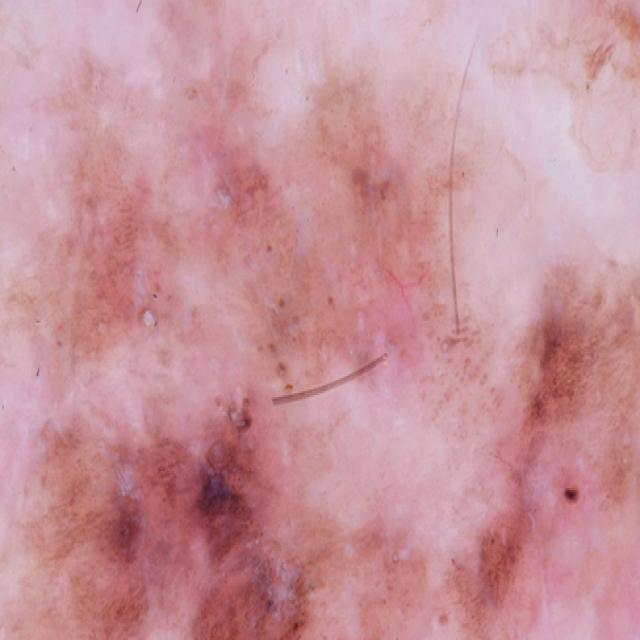Keratosis: (19, 231, 240, 565), (273, 153, 473, 343), (494, 356, 632, 574), (273, 533, 475, 640)
